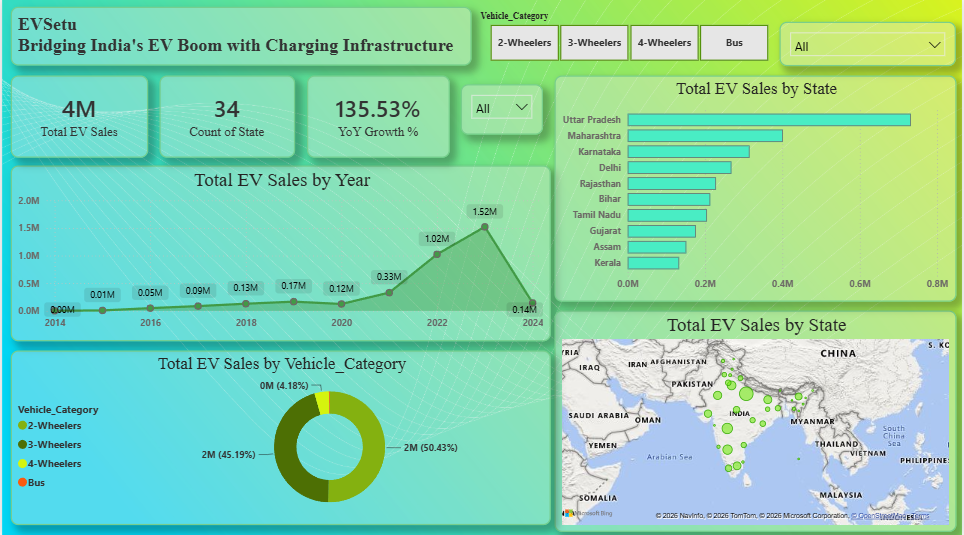

This screenshot's page, from the dashboard's own definition file:
{"tool":"powerbi","page":{"name":"Page 1","canvas":[1280,720],"ordinal":0},"visuals":[{"type":"textbox","box":[10.9,12.1,614.1,78.4],"z":0},{"type":"lineChart","fields":{"Category":["EV_Dataset.Year"],"Y":["EV_Dataset.Total EV Sales"]},"box":[10.9,223.2,720.2,234],"z":1000},{"type":"map","fields":{"Category":["EV_Dataset.State"],"Size":["EV_Dataset.Total EV Sales"]},"box":[735.9,416.2,535.7,295.6],"z":2000},{"type":"cardVisual","fields":{"Data":["EV_Dataset.Total EV Sales"]},"box":[10.9,102.5,183.4,109.8],"z":3000},{"type":"cardVisual","fields":{"Data":["Count(EV_Dataset.State)"]},"box":[209.9,102.5,181,109.8],"z":4000},{"type":"cardVisual","fields":{"Data":["EV_Dataset.YoY Growth %"]},"box":[406.6,103.8,190.6,109.8],"z":5000},{"type":"slicer","fields":{"Values":["EV_Dataset.Vehicle_Category"]},"box":[624.9,13.3,421,77.2],"z":6000},{"type":"slicer","fields":{"Values":["EV_Dataset.State"]},"box":[1036.3,31.4,235.3,59.1],"z":7000},{"type":"clusteredBarChart","fields":{"Category":["EV_Dataset.State"],"Y":["EV_Dataset.Total EV Sales"]},"box":[735.9,102.5,535.7,301.6],"z":8000},{"type":"donutChart","fields":{"Category":["EV_Dataset.Vehicle_Category"],"Y":["EV_Dataset.Total EV Sales"]},"box":[10.9,469.3,720.2,232.8],"z":9000},{"type":"slicer","fields":{"Values":["EV_Dataset.Year"]},"box":[611.7,115.8,109.8,67.6],"z":10000}]}

Visuals, with their boxes in screenshot pixels (x1, y1, x2, y2), scaled from the page's 1280x720 canvas onto the 964x535 screenshot:
textbox: 8 9 471 67
lineChart - EV_Dataset.Year x EV_Dataset.Total EV Sales: 8 166 551 340
map - EV_Dataset.State x EV_Dataset.Total EV Sales: 554 309 958 529
cardVisual - EV_Dataset.Total EV Sales: 8 76 146 158
cardVisual - Count(EV_Dataset.State): 158 76 294 158
cardVisual - EV_Dataset.YoY Growth %: 306 77 450 159
slicer - EV_Dataset.Vehicle_Category: 471 10 788 67
slicer - EV_Dataset.State: 780 23 958 67
clusteredBarChart - EV_Dataset.State x EV_Dataset.Total EV Sales: 554 76 958 300
donutChart - EV_Dataset.Vehicle_Category x EV_Dataset.Total EV Sales: 8 349 551 522
slicer - EV_Dataset.Year: 461 86 543 136
